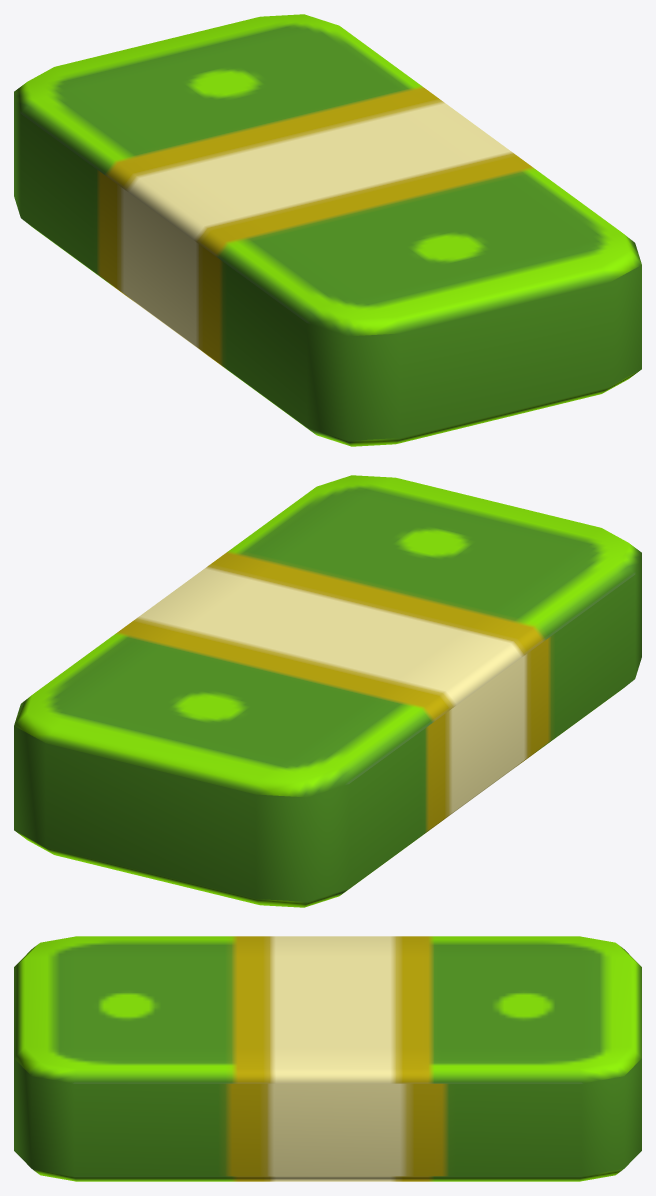
File: money.fbx
3 renders of one model, top to bottom at view 1: azimuth 30°, elevation 25°; view 2: azimuth 150°, elevation 25°; view 3: azimuth 270°, elevation 25°, orthographic. The views are drawn at different scales.
Visible parts, largest first — view 1: money; view 2: money; view 3: money.
Part boxes in pixels (<box>): money: <box>14,14,641,446</box>; money: <box>14,475,641,907</box>; money: <box>14,936,641,1181</box>.
Bounding box in the file's own units: 24.09 × 8.92 × 45.02.
